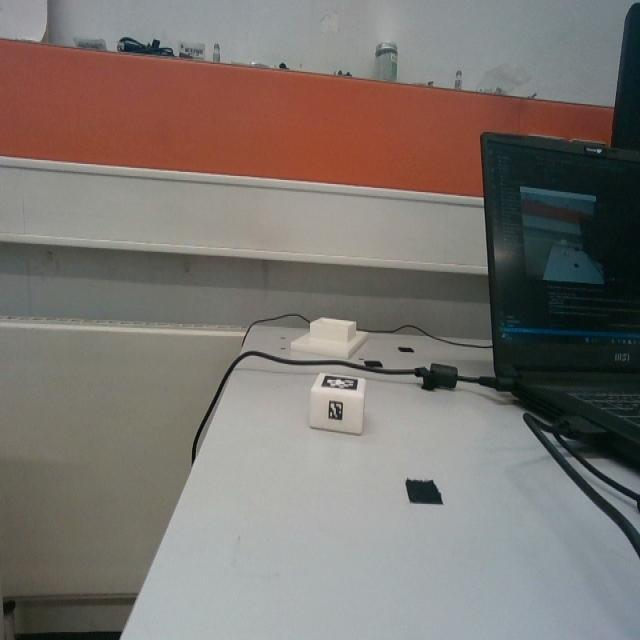Cube: (312, 375, 369, 436)
